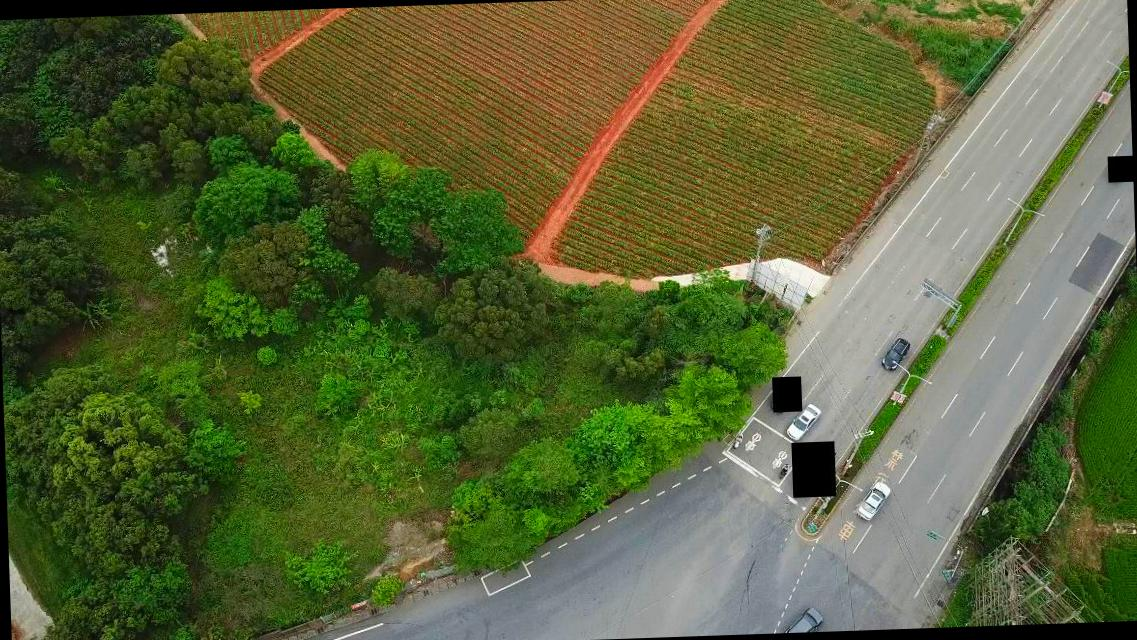vehicle: (853, 479, 891, 521), (784, 401, 820, 442), (780, 606, 824, 632), (881, 336, 911, 369)
